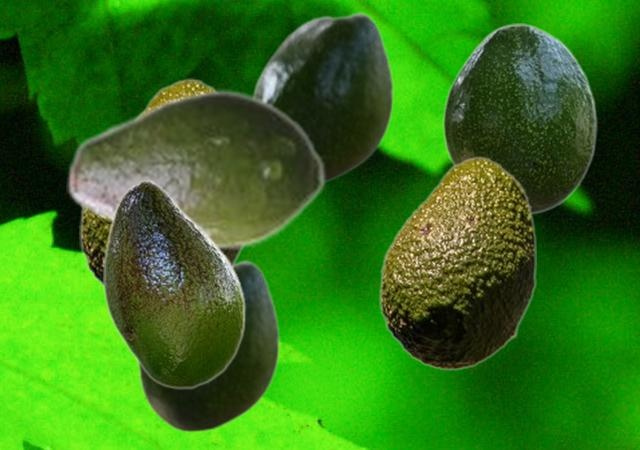avocado: (66, 88, 326, 251), (79, 78, 245, 290), (379, 156, 535, 370), (103, 179, 245, 388), (442, 23, 596, 214), (136, 259, 279, 432), (250, 11, 393, 184)
